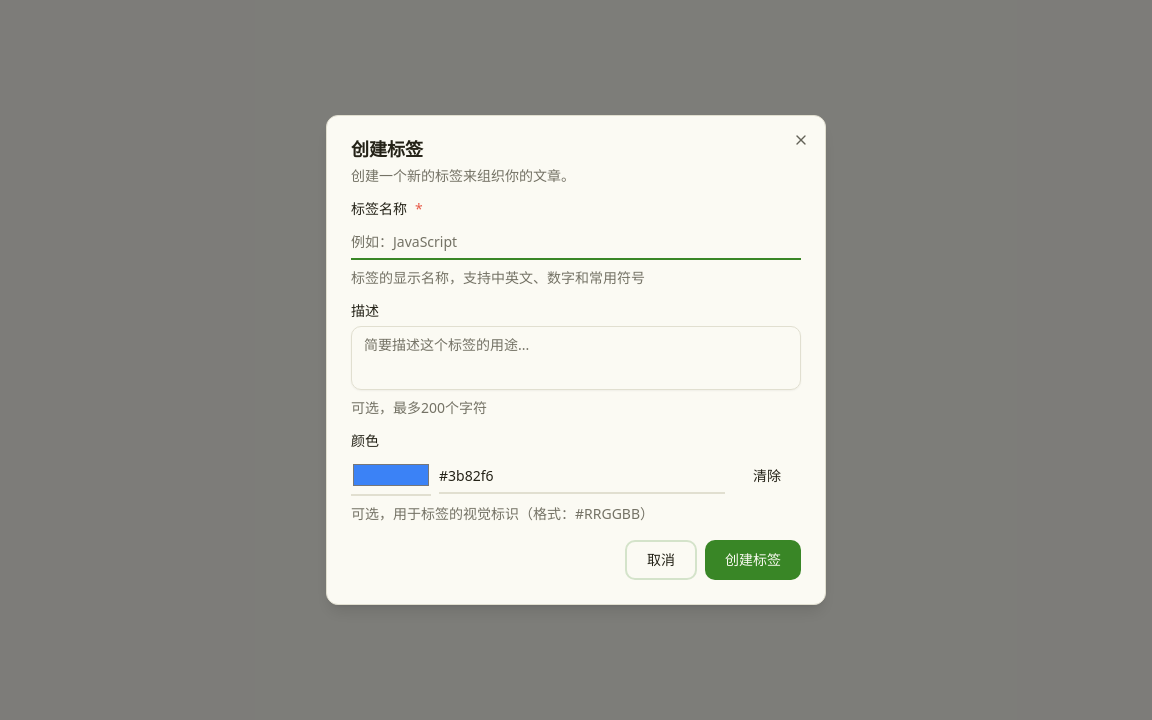
Scenario: TagDialog › 创建模式 › 应该在输入名称时自动生成 slug
The width and height of the screenshot is (1152, 720).
Type "JavaScript" into the field labelled "标签名称 *" at point(576, 242), box [351, 224, 801, 260]
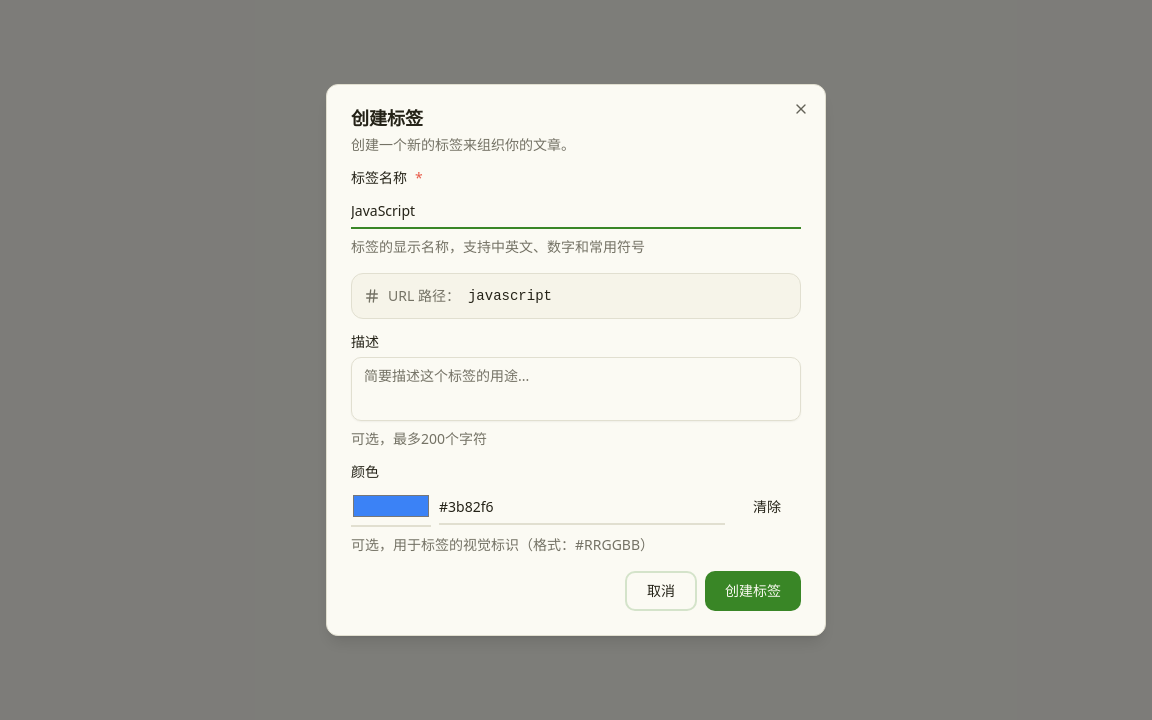
expect the text "javascript" is shown: met, box [468, 286, 552, 306]
